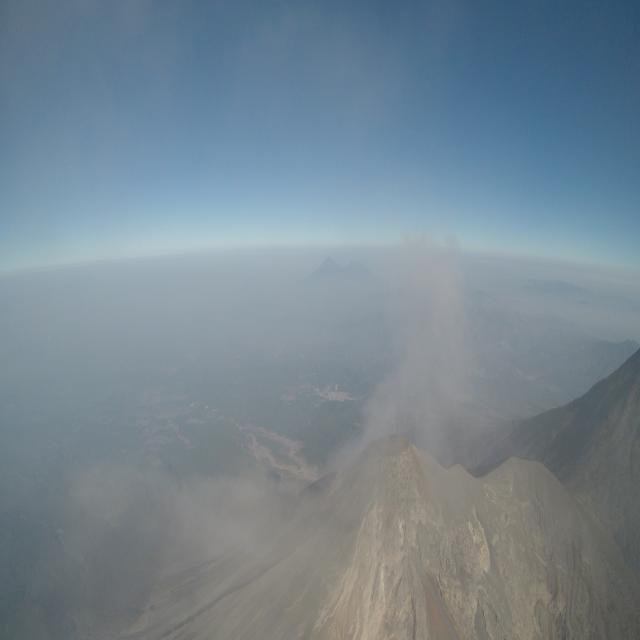Summit: (306, 427, 474, 545)
